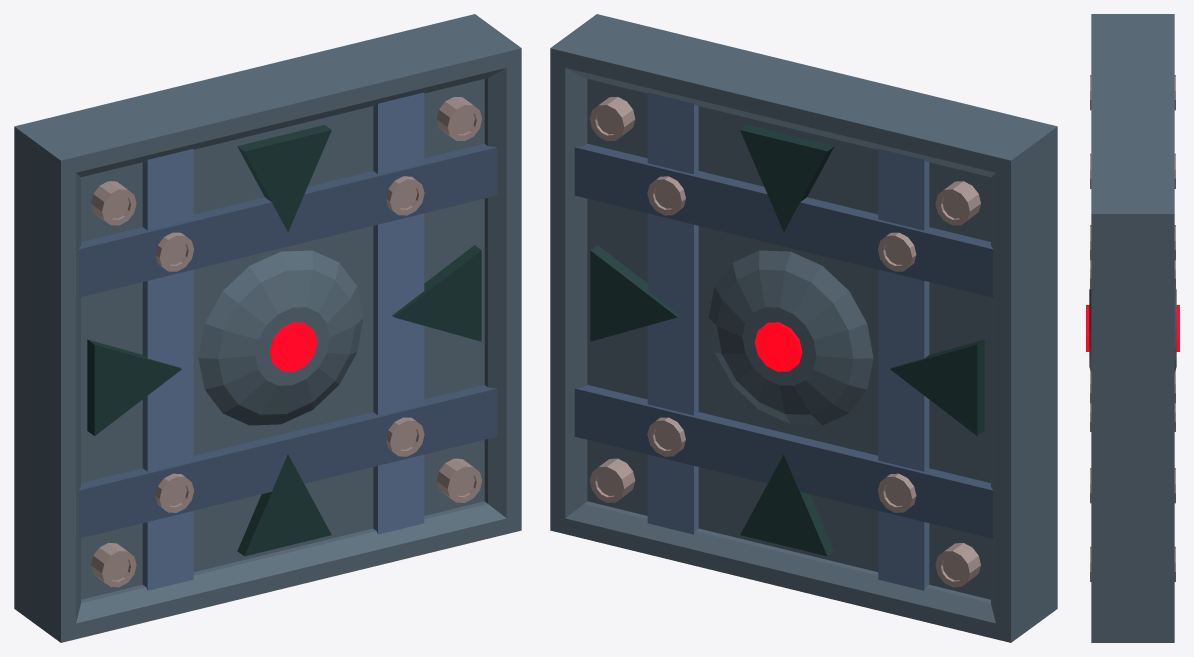
Rendered from door.glb.
3 views of the same model, side by side, from view 1: azimuth 30°, elevation 25°; view 2: azimuth 150°, elevation 25°; view 3: azimuth 270°, elevation 25° (orthographic). The views are drawn at different scales.
Visible parts, largest first — view 1: door_mesh, door_status_mesh; view 2: door_mesh, door_status_mesh; view 3: door_mesh, door_status_mesh.
Boxes of the visible parts, x1=… form: door_mesh: x1=14, y1=14, x2=521, y2=642; door_status_mesh: x1=269, y1=322, x2=317, y2=371; door_mesh: x1=550, y1=14, x2=1057, y2=642; door_status_mesh: x1=754, y1=322, x2=802, y2=371; door_mesh: x1=1089, y1=14, x2=1176, y2=642; door_status_mesh: x1=1086, y1=305, x2=1179, y2=351.
Size of what is drawn, in the model's own units: 4 by 4 by 0.792.
